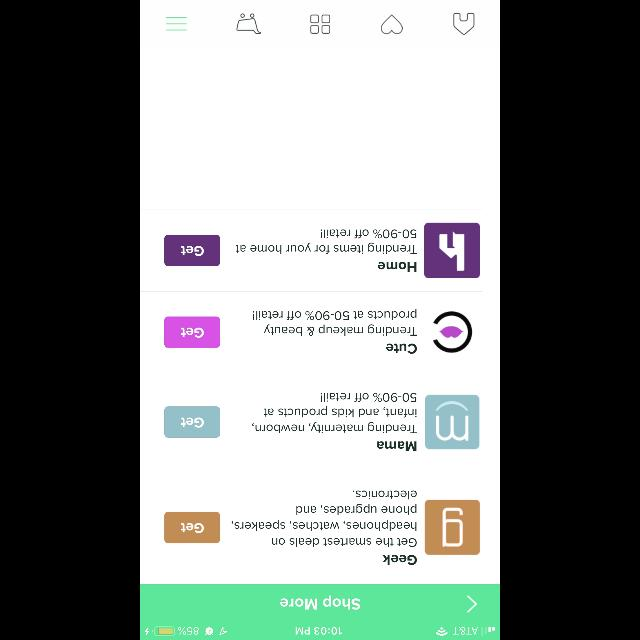icon: (237, 13, 261, 34), (452, 13, 473, 35), (380, 14, 402, 34), (310, 14, 330, 34), (166, 18, 187, 30), (467, 596, 477, 612)
image: (424, 222, 480, 278), (424, 394, 480, 450), (424, 500, 480, 554), (432, 311, 472, 353)
text: (232, 490, 416, 548), (252, 392, 416, 433), (253, 308, 417, 336), (236, 230, 417, 254), (280, 594, 360, 610), (377, 441, 417, 451), (378, 262, 417, 272), (382, 555, 416, 565), (386, 342, 416, 353)
textbutton: (164, 316, 220, 348), (164, 234, 220, 266), (164, 407, 220, 438), (164, 512, 220, 542)
uppertaskbar: (140, 626, 500, 640)
